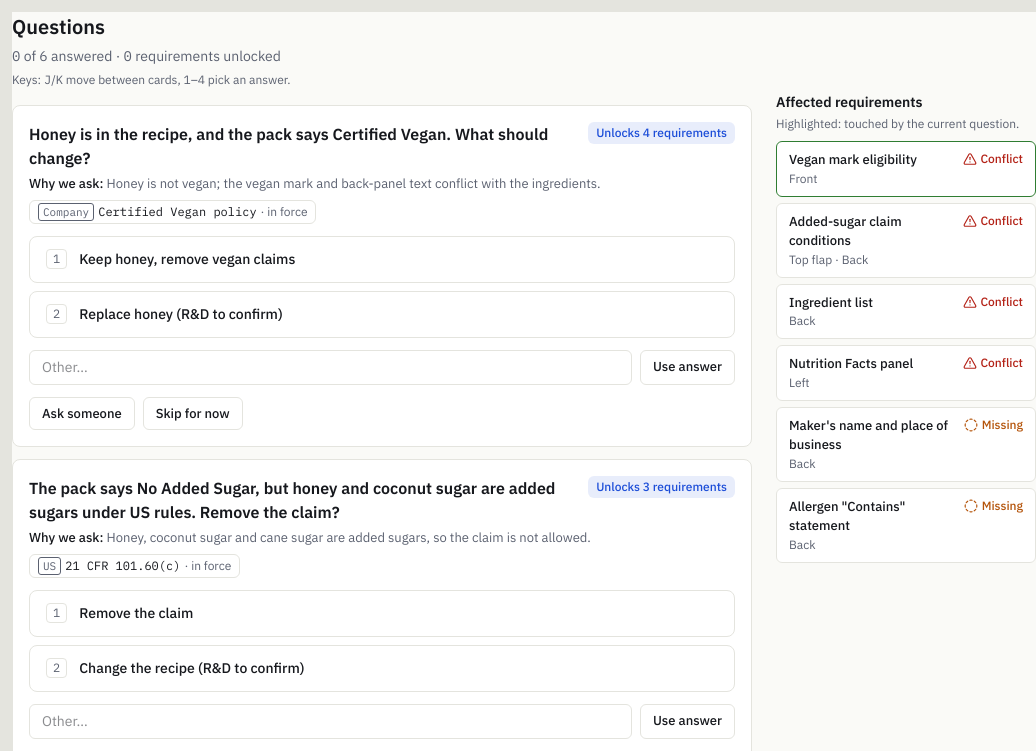
Test: Questions with the answers route › reverts the card and shows the reason when the answer is refused
expect the heading "Questions" is shown: met, box 12,13 -> 105,40
Click the button "1 Keep honey, remove vegan claims".
click(187, 258)  # box 29,236 -> 735,282
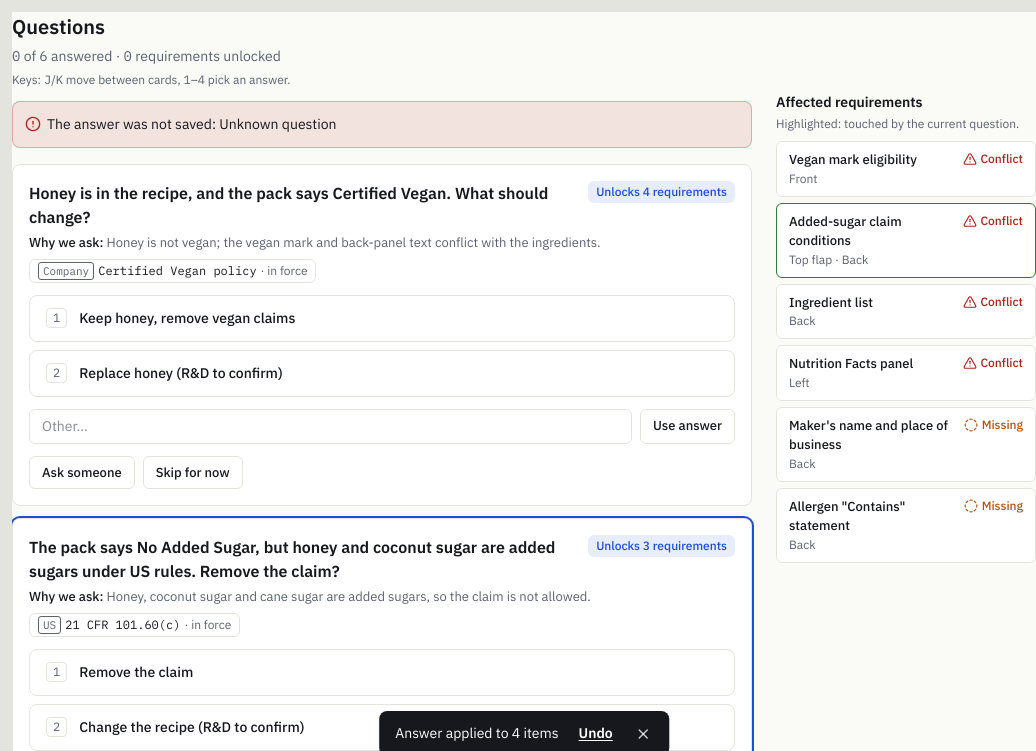
expect the text "The answer was not saved: Unknown question" is shown: met, box 12,101 -> 752,148
